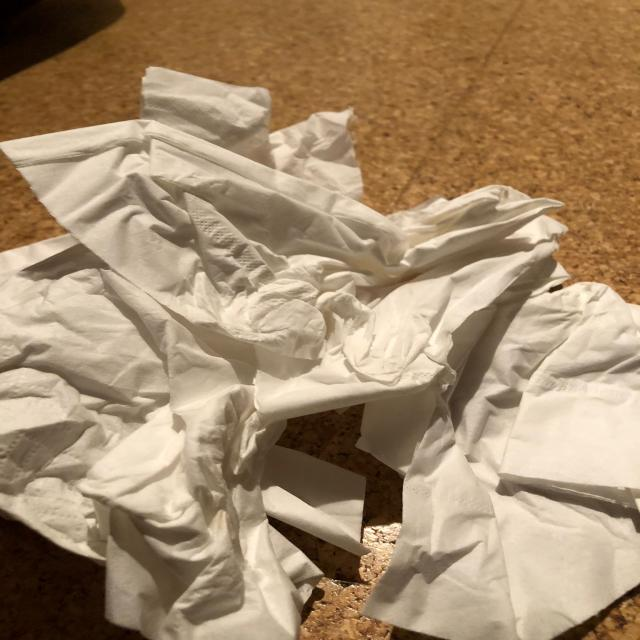kitchen paper: (0, 63, 567, 475), (0, 231, 371, 640), (360, 281, 640, 640)
